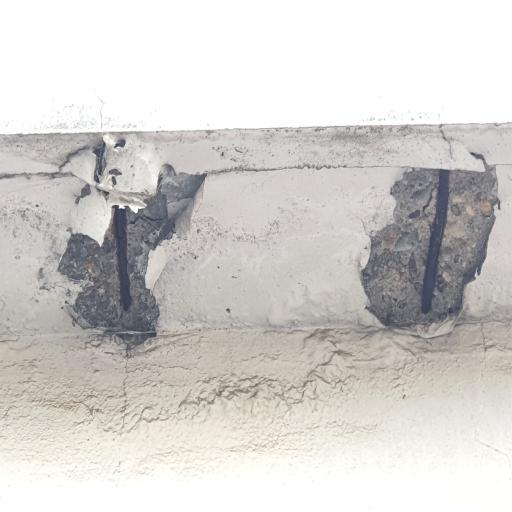exposed_rebar: (421, 169, 449, 313), (114, 206, 132, 311)
spalling: (58, 164, 205, 332), (361, 170, 498, 336), (93, 139, 106, 182)
